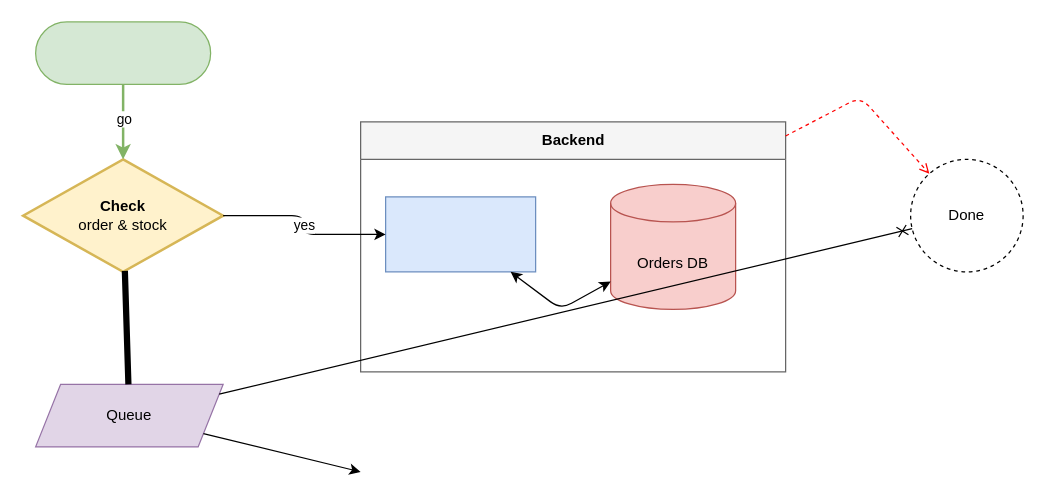
Some shapes in this 1045 by 504 pixel diagram are drawn without their labels. Here are the shapes that lost their labels. From the top down, the box of each, then its label:
(34, 21, 211, 84): Start
(384, 196, 536, 272): API "v2"
